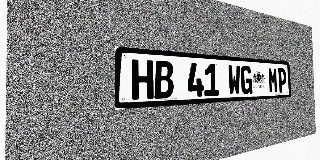1: (204, 63, 219, 96)
4: (187, 62, 204, 97)
B: (154, 61, 174, 99)
G: (240, 66, 252, 94)
H: (132, 59, 154, 100)
M: (268, 67, 278, 93)
P: (277, 68, 287, 93)
W: (228, 65, 241, 95)
